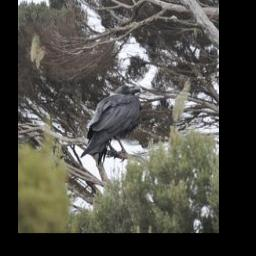Crow: (81, 83, 143, 169)
